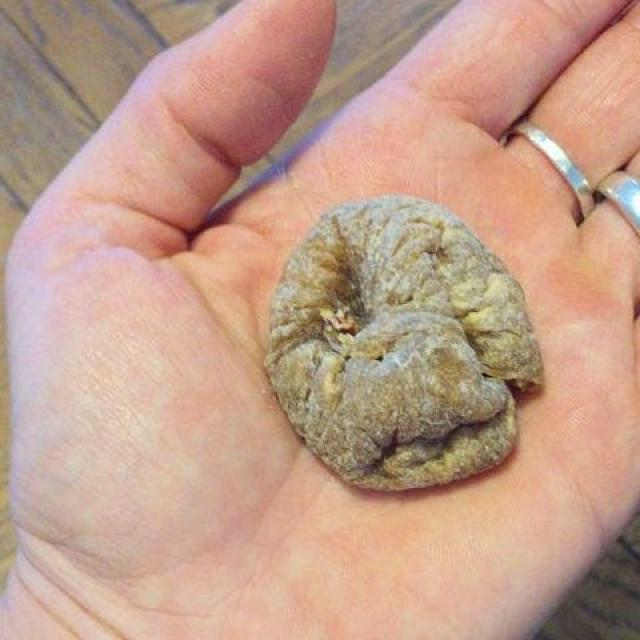fig-dried: (282, 199, 537, 477)
